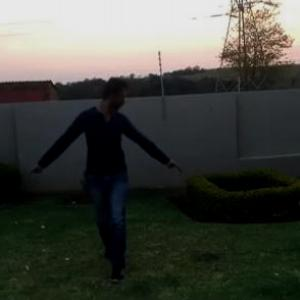land: (14, 66, 184, 287)
